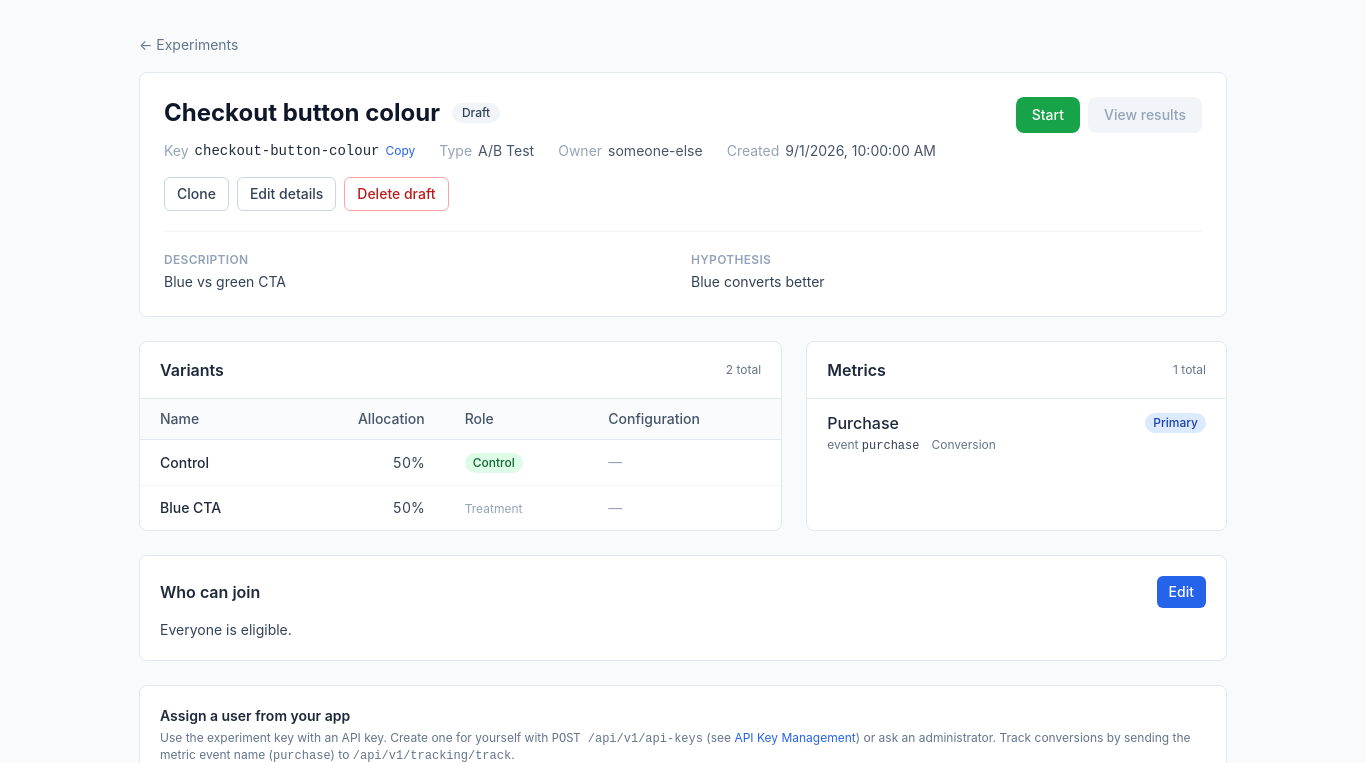
Test: Edit details › changing the description only sends exactly that
Click the button with test id "experiment-edit-details": (287, 194) [237,177,336,211]
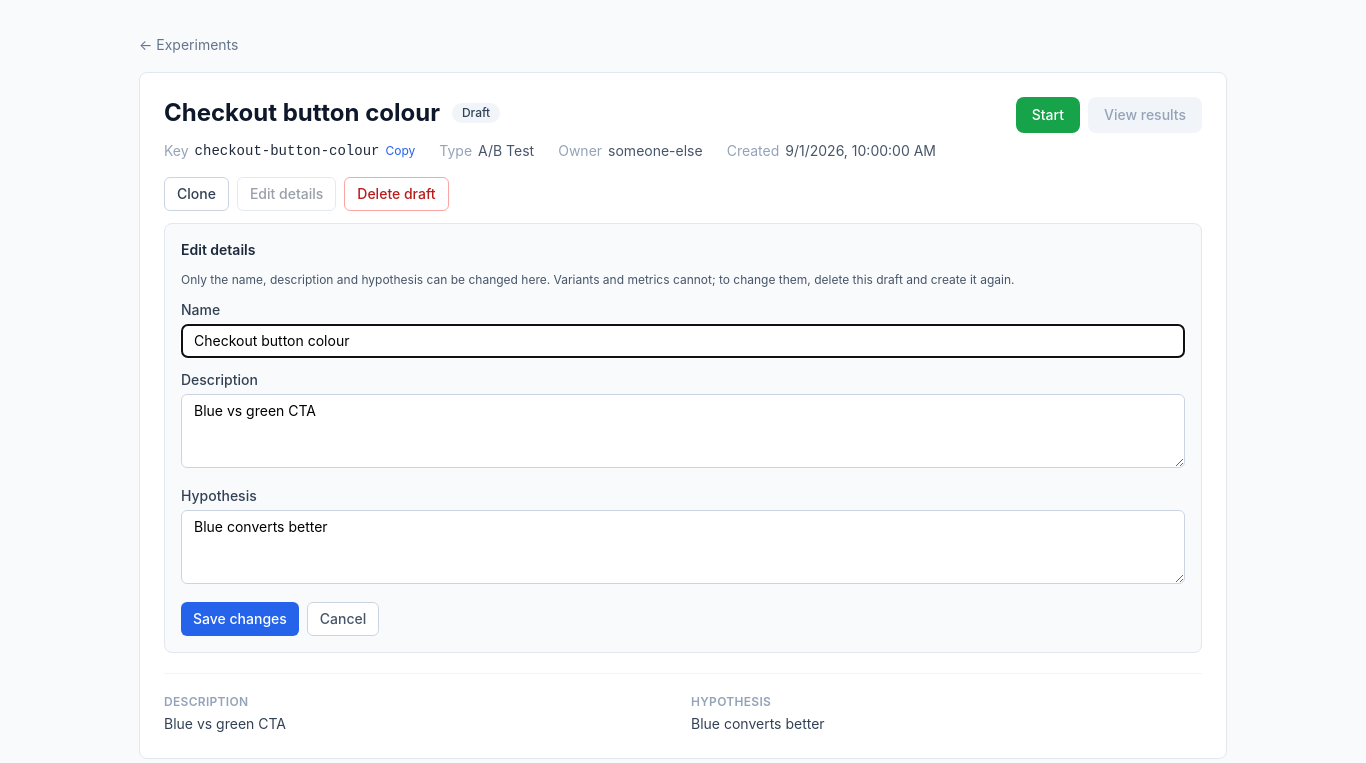
Replace the text in the text box with test id "manage-edit-description" with "Green vs blue": (683, 431) [181,394,1185,468]
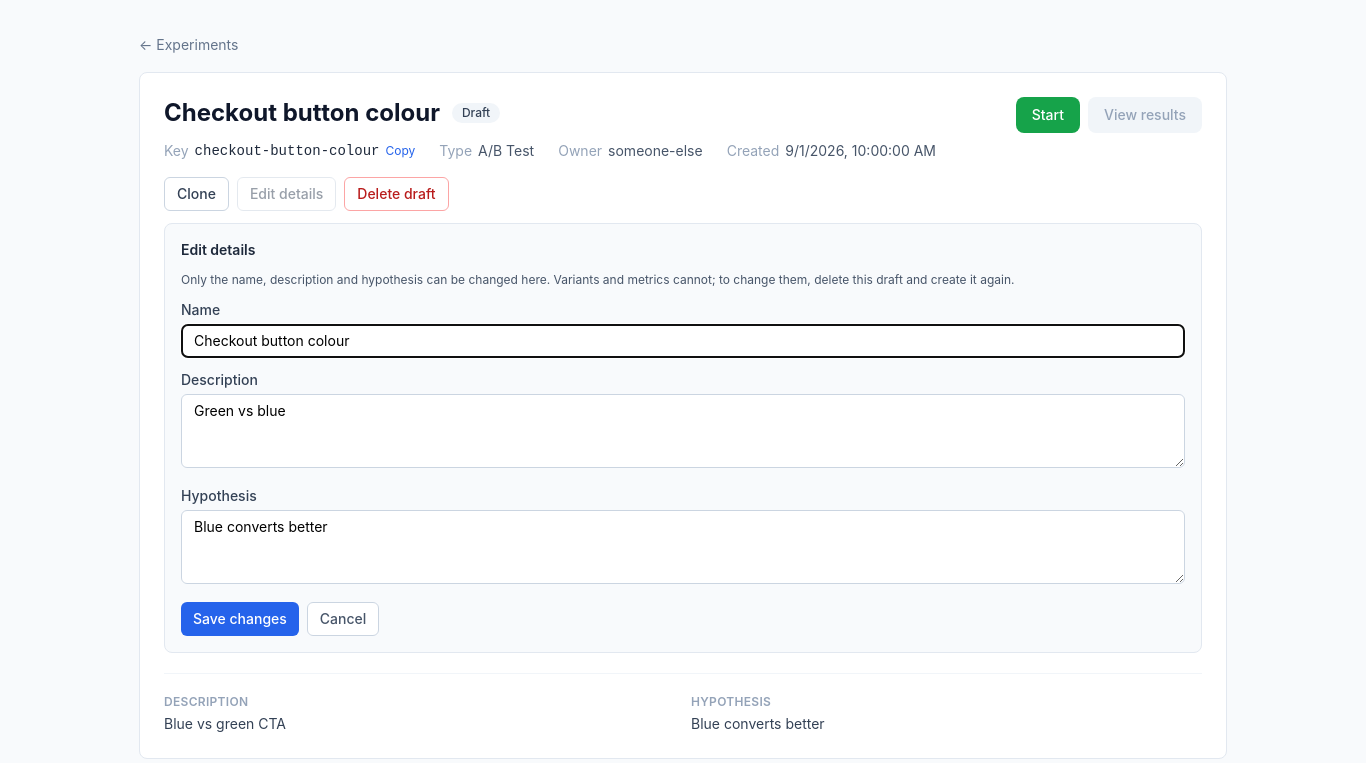
Click the button with test id "manage-edit-save": (240, 619) [181,602,299,636]
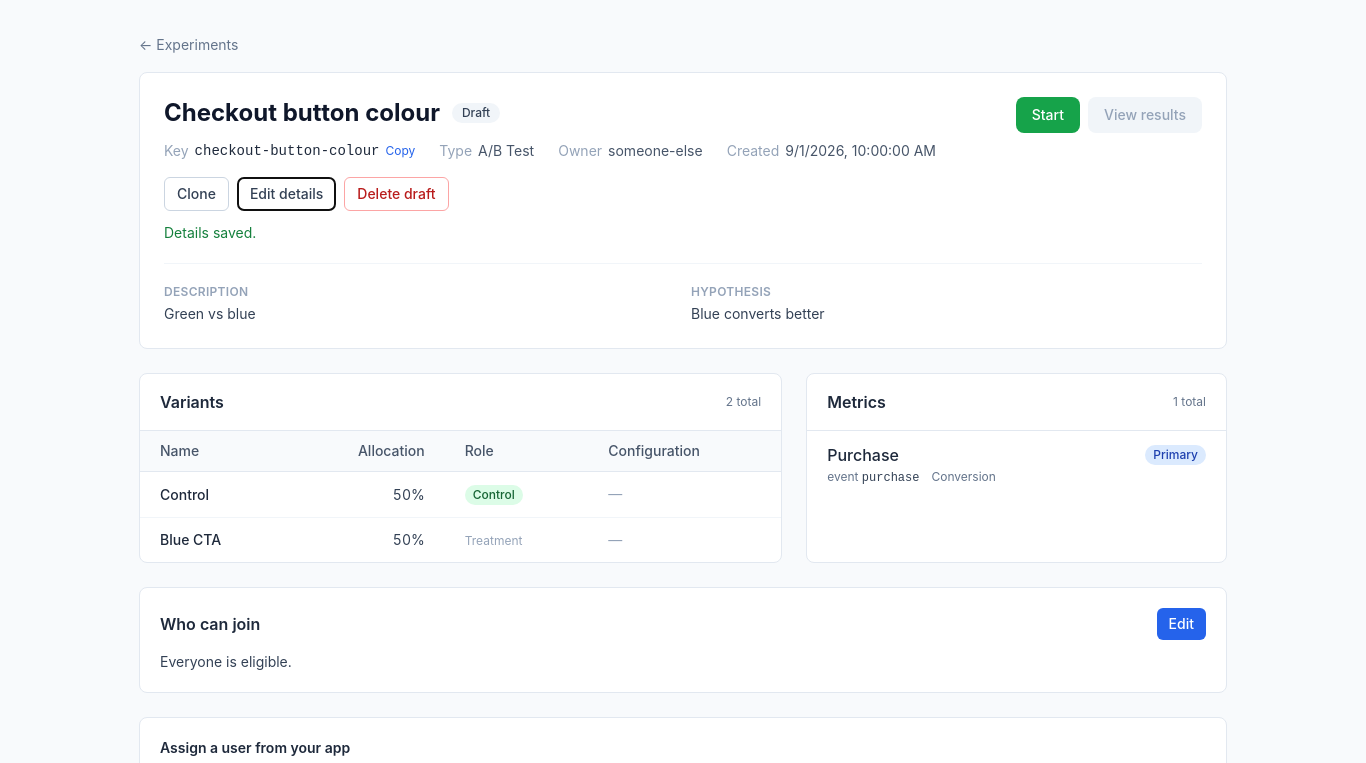
Result: the message "Details saved." is shown at [164,224,256,241]
